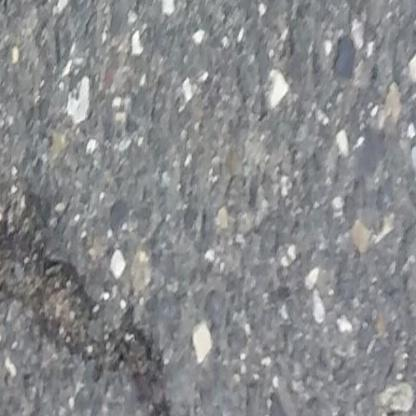Cracks: (0, 201, 180, 416)
